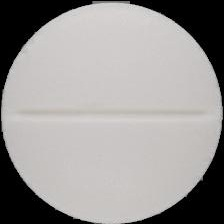21695-580: (0, 0, 224, 224)
